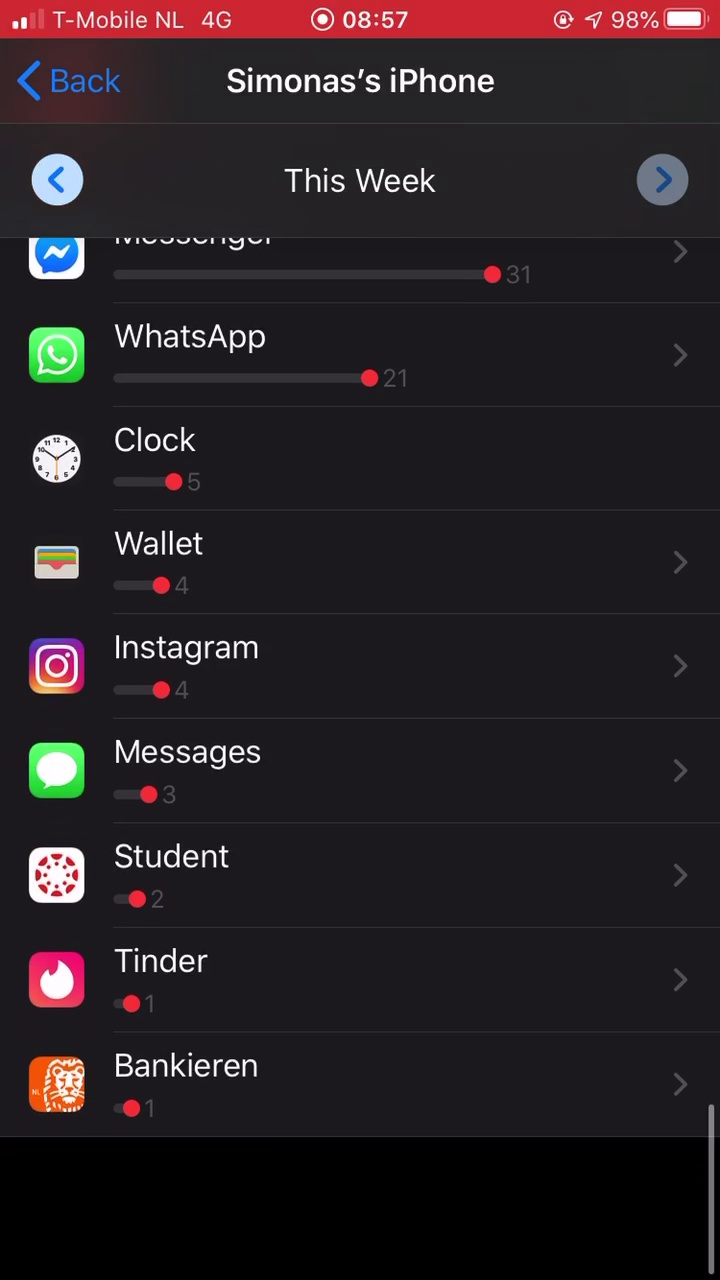not_app: (6, 308, 442, 409), (18, 622, 303, 716), (14, 1042, 291, 1135), (17, 828, 273, 922), (12, 410, 254, 507), (17, 932, 248, 1030), (21, 730, 291, 811), (18, 520, 234, 603)
week: (275, 160, 450, 209)
